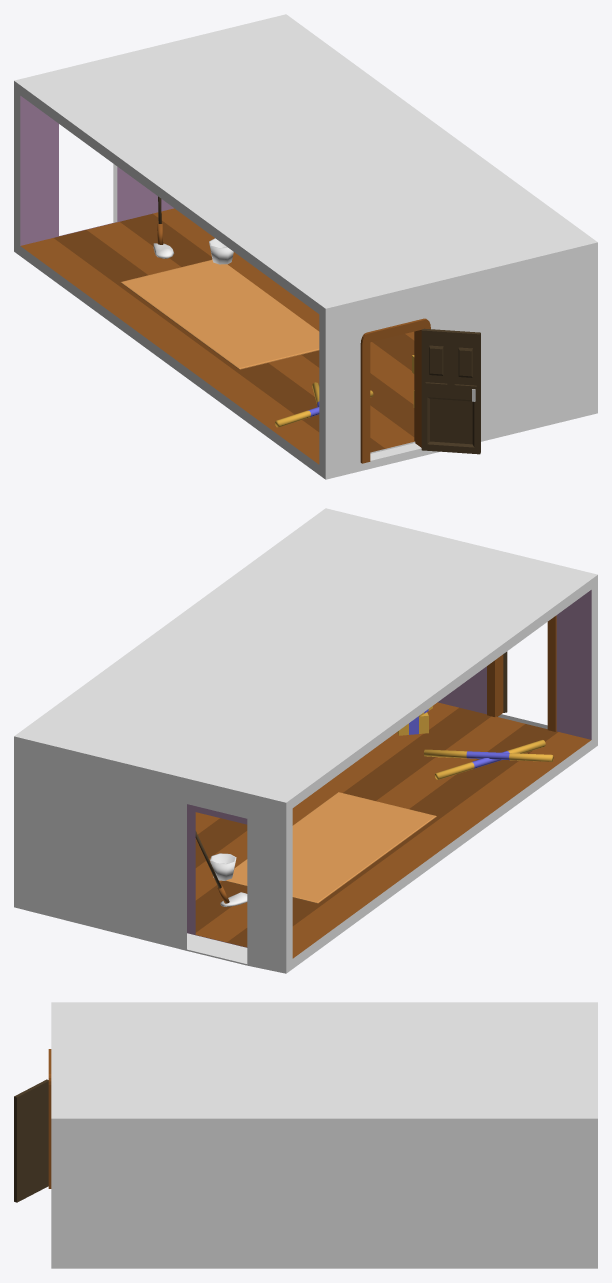
File: Комната3.fbx
3 renders of one model, top to bottom at view 1: azimuth 30°, elevation 25°; view 2: azimuth 150°, elevation 25°; view 3: azimuth 270°, elevation 25°, orthographic. The views are drawn at different scales.
Visible parts, largest first — view 1: Cube.381; view 2: Cube.381; view 3: Cube.381.
Boxes of the visible parts, x1,y1,x2,y2 form: Cube.381: [14, 14, 597, 479]; Cube.381: [14, 508, 597, 973]; Cube.381: [14, 1002, 597, 1268].
Bounding box in the file's own units: 799 × 479 × 1678.
